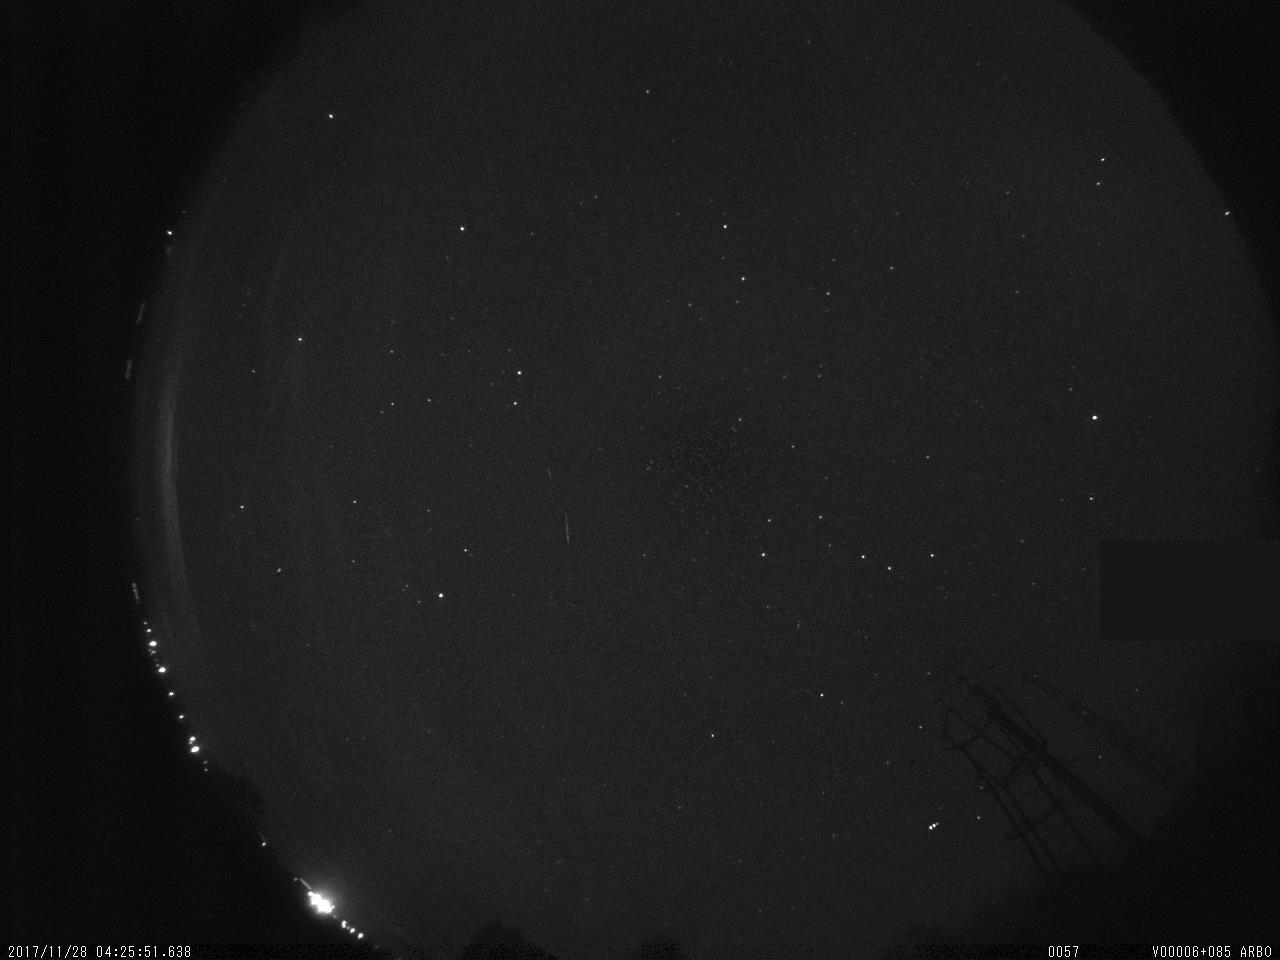meteor: (553, 509, 581, 551)
